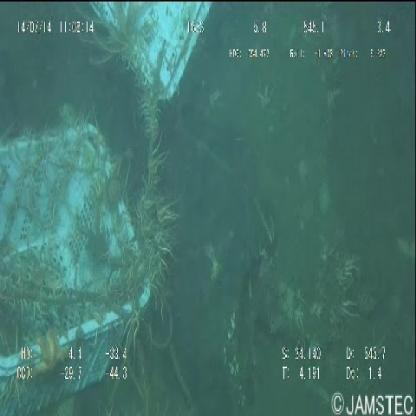Rác: (1, 2, 221, 408)
